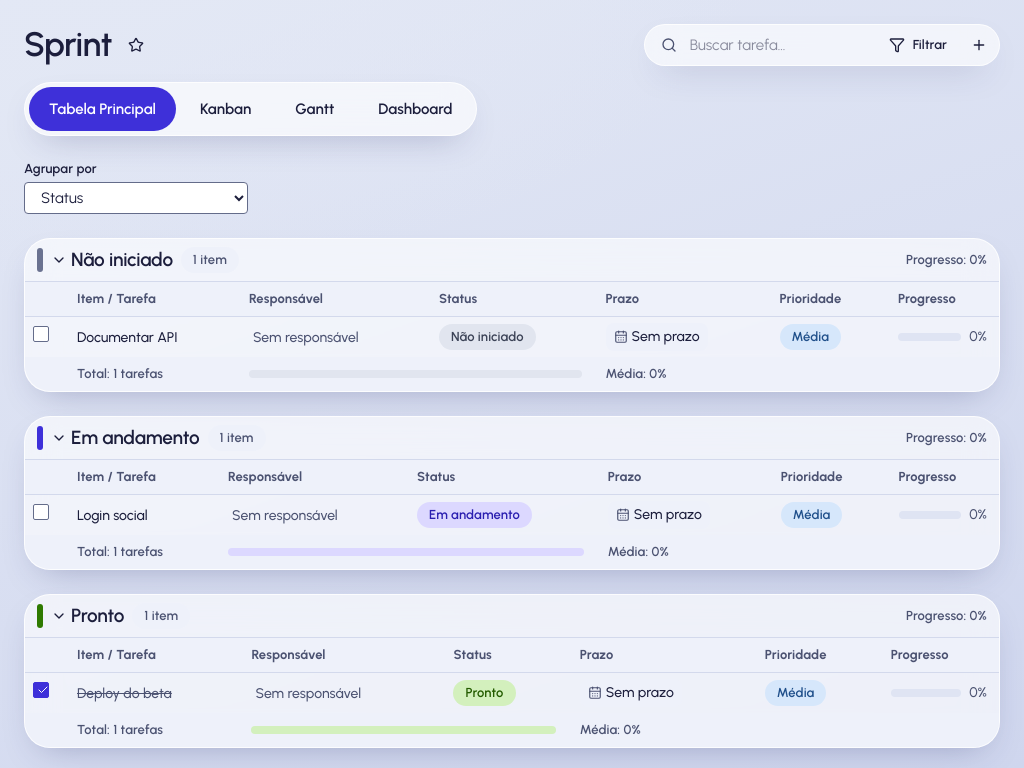
Test: tabela: agrupar por grupo ou por status › voltar para "Grupo" restaura os grupos e o botão "Novo grupo"
Select "Grupo" in the dropdown labelled "Agrupar por" at (136, 198), box [24,182,248,214]
(page scrolled)
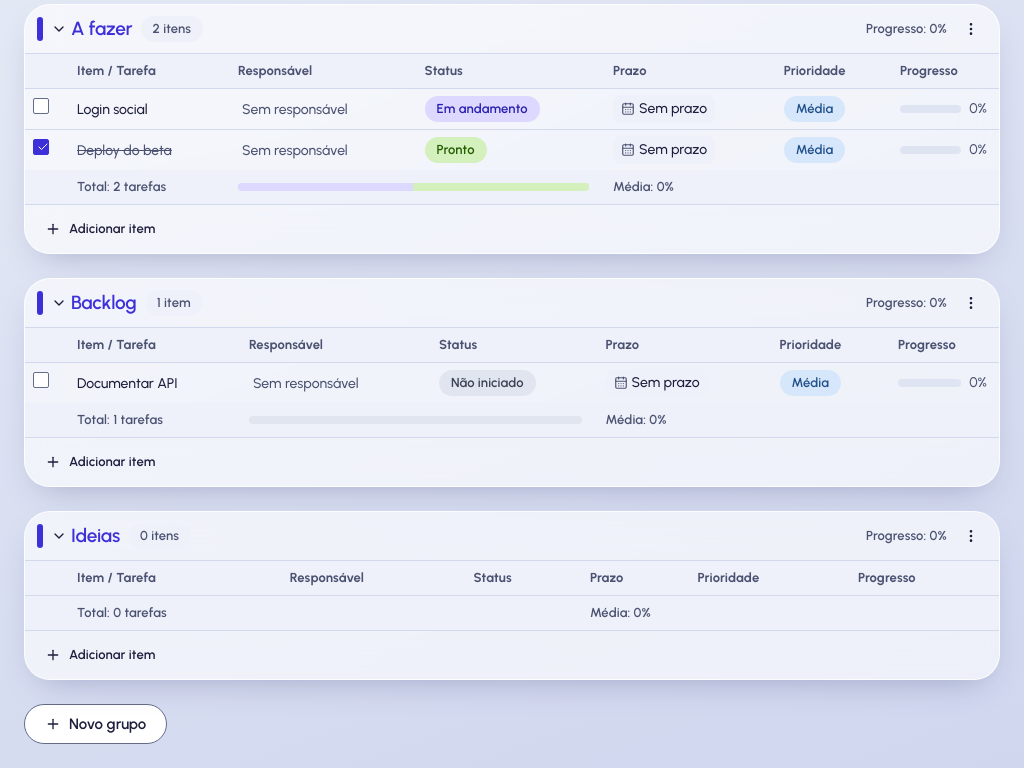
Check: the heading "A fazer" is shown, box [71,17,132,41]
Check: the button "Novo grupo" is shown, box [24,704,167,744]
